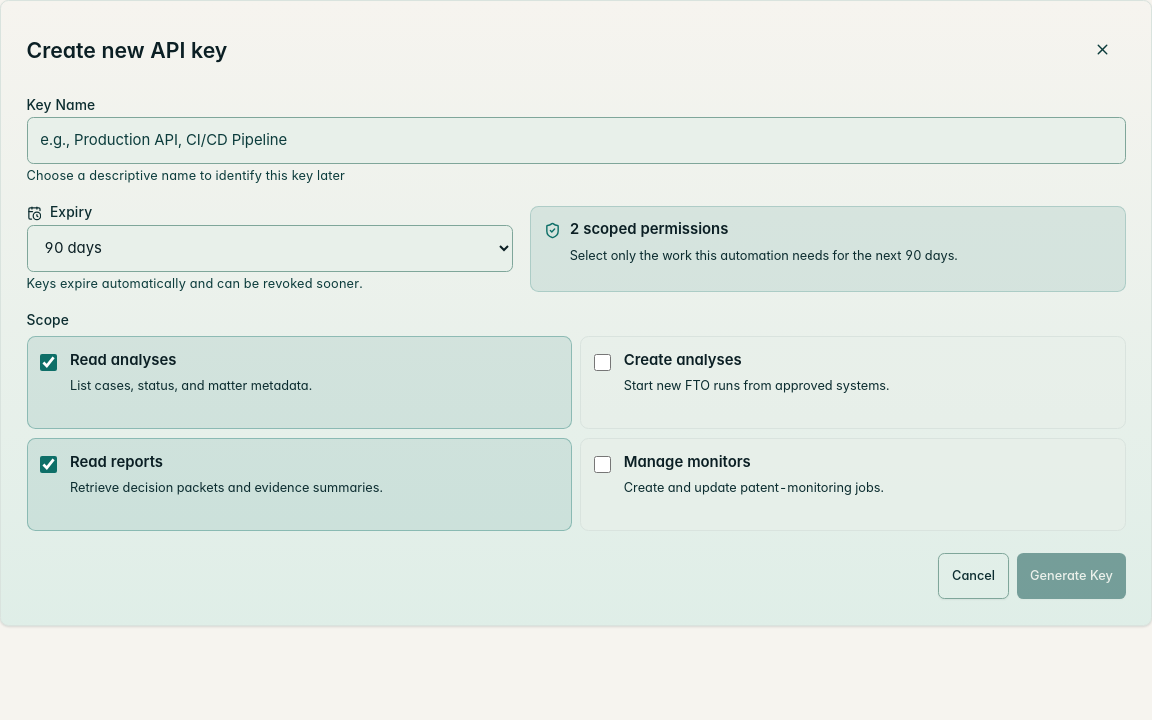
Test: CreateApiKeyForm › locks close and cancel controls while creation is pending
Type "Production reports" into the field with placeholder "e.g., Production API, CI/CD Pipeline".
click(576, 140); type("Production reports")  # box [26, 117, 1126, 164]
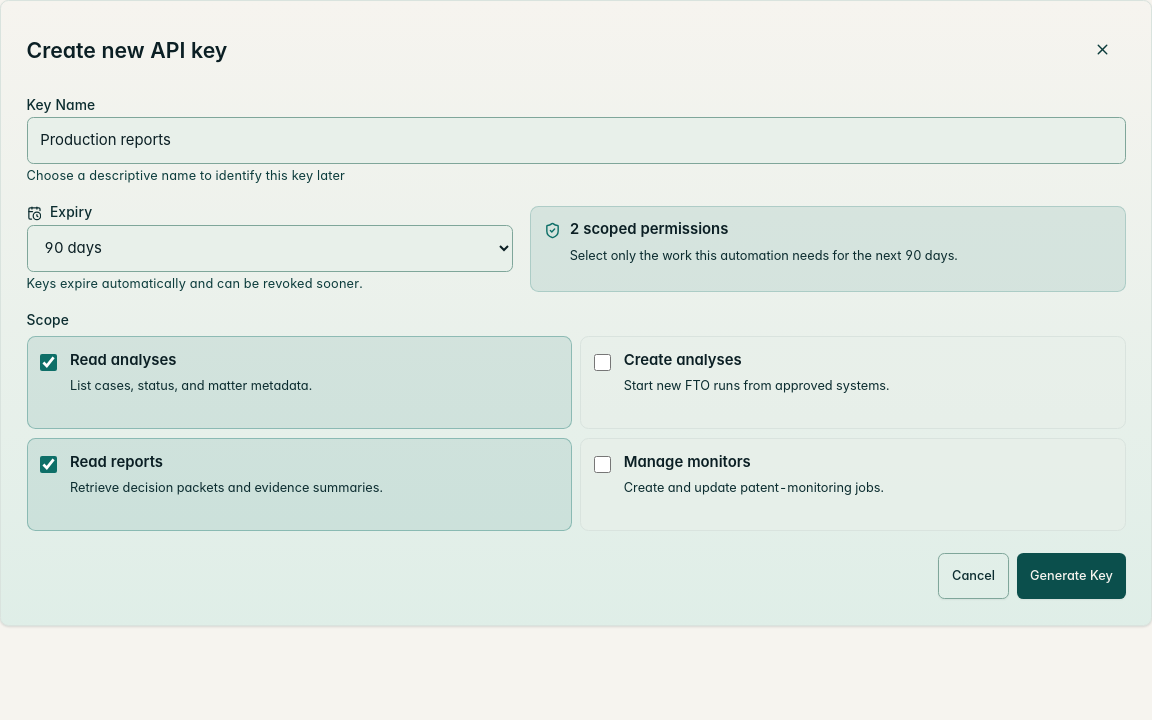
Click the button "Generate Key".
click(1071, 576)  # box [1017, 553, 1126, 599]
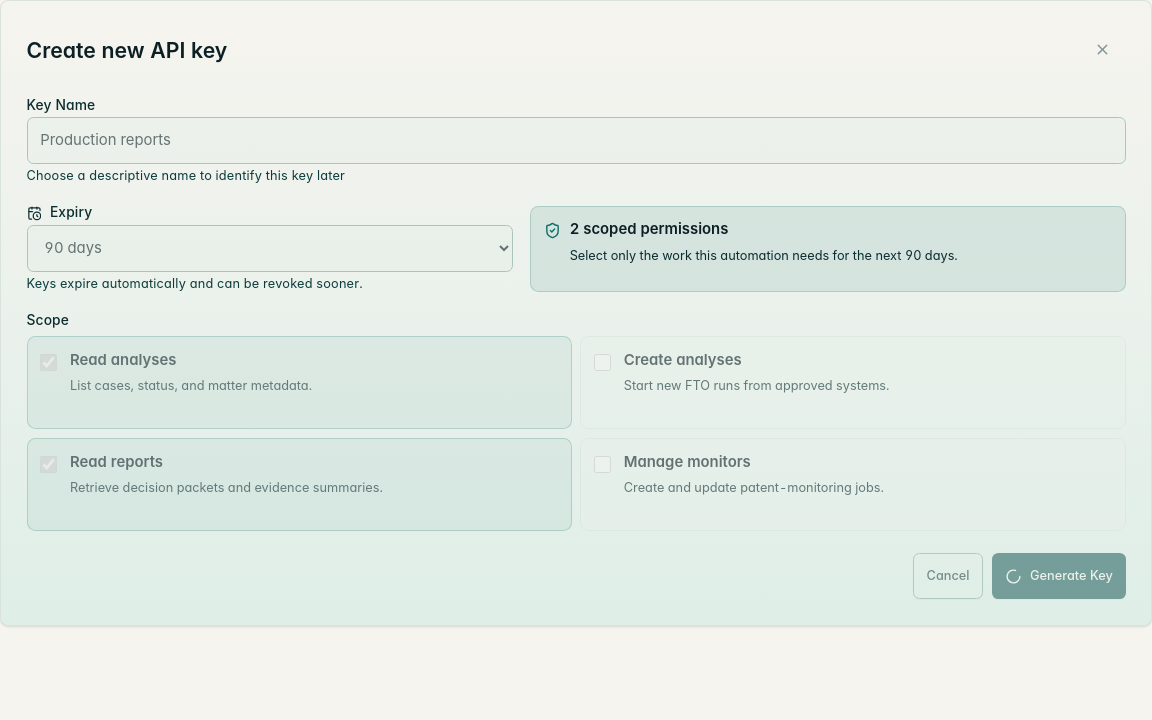
Expected: the button named "Close create API key form" is disabled, [1079, 26, 1126, 73]
Expected: the button "Cancel" is disabled, [913, 553, 983, 599]
